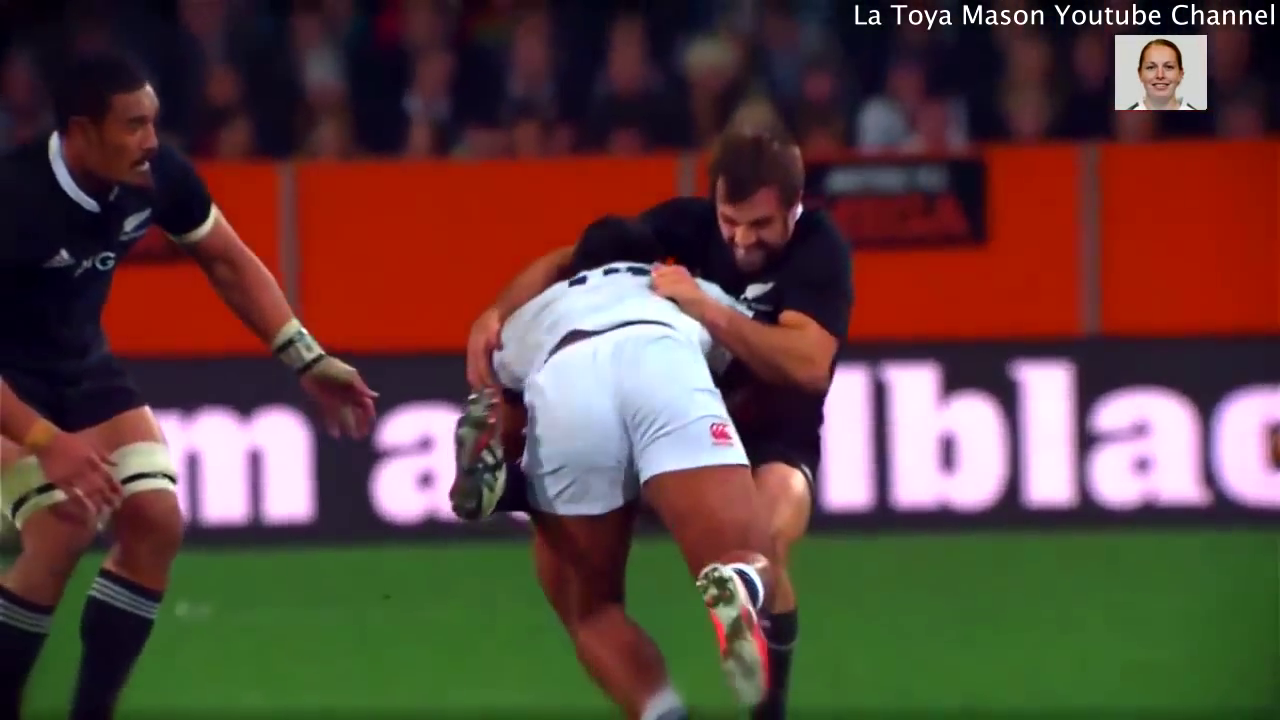player: (1, 32, 394, 720), (538, 111, 862, 717), (441, 197, 788, 720)
